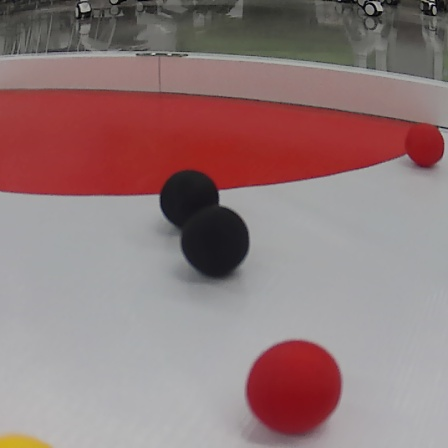black: (181, 208, 250, 275), (156, 167, 226, 220)
red: (241, 339, 343, 436), (409, 121, 444, 166)
red_base: (1, 84, 446, 192)
